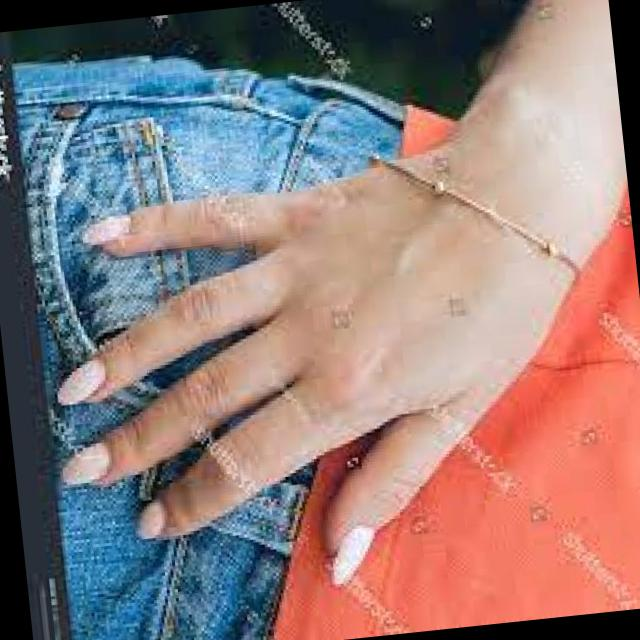Nail: (331, 526, 375, 582), (58, 357, 104, 404), (61, 443, 109, 484), (82, 213, 130, 244), (137, 498, 165, 538)
